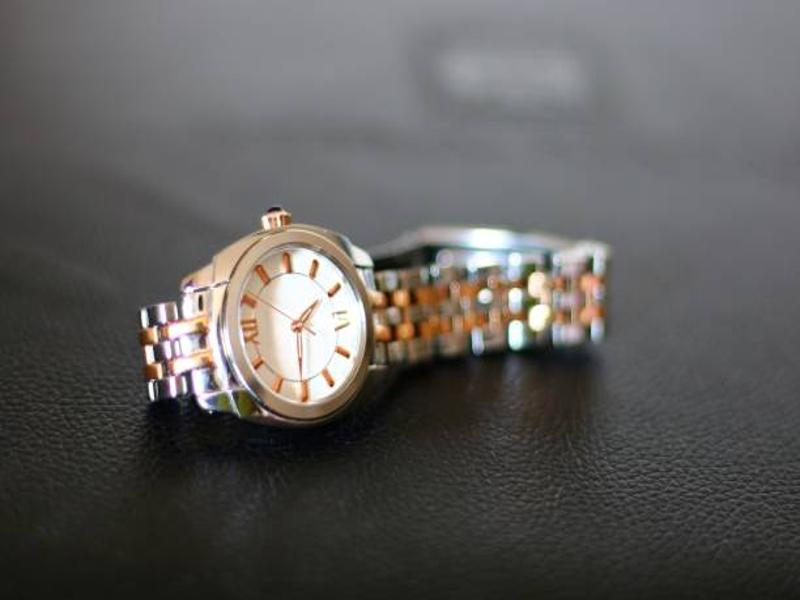watch: (135, 201, 613, 438)
